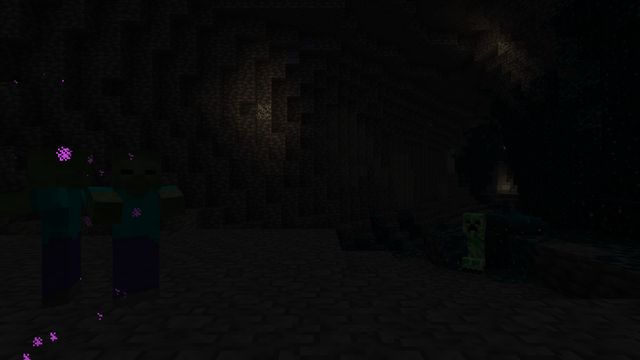creepers: (458, 210, 490, 273)
zombies: (95, 153, 171, 309), (14, 153, 84, 309)
